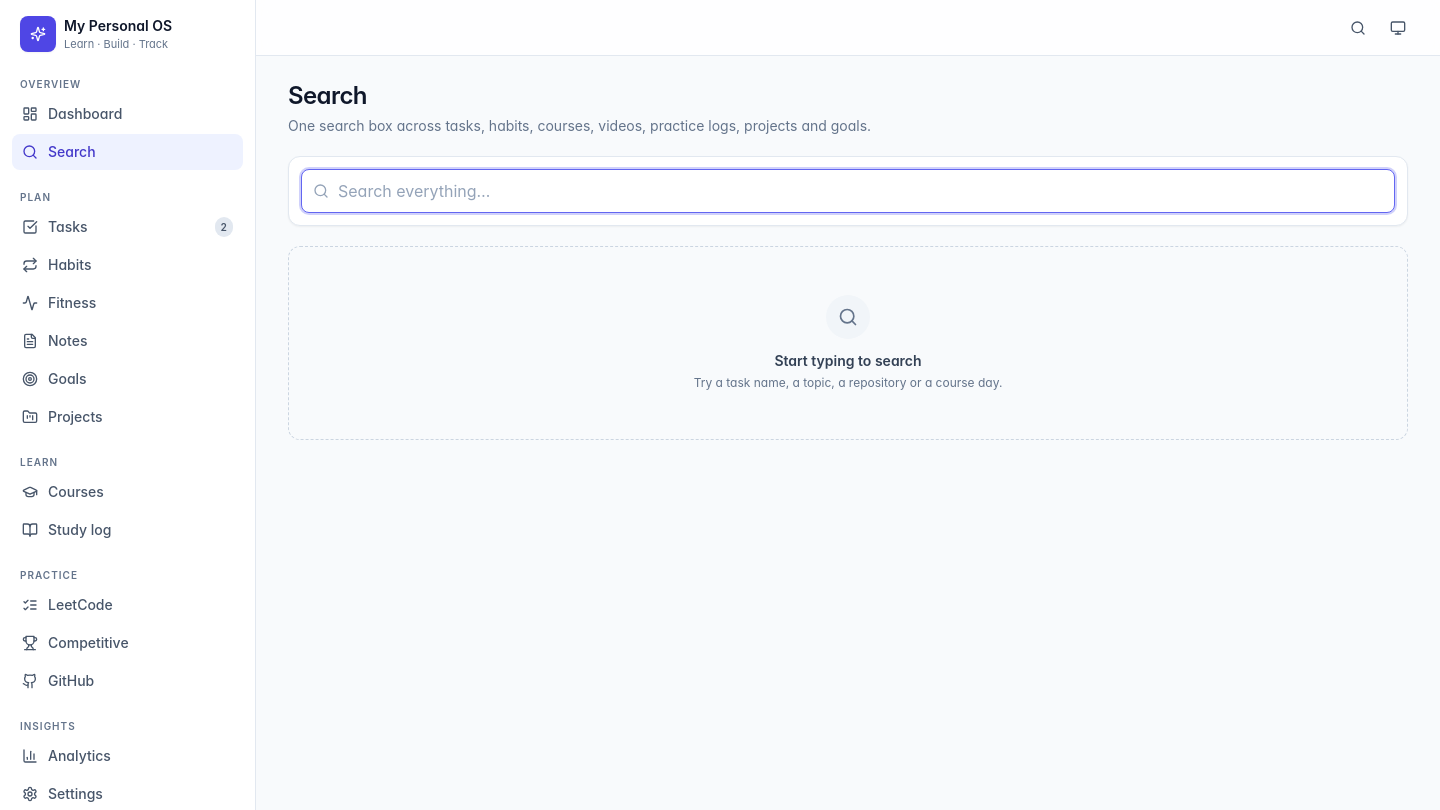
Test: analytics, search and settings › searches across every module
The image size is (1440, 810).
Expected: the heading "Search" is shown, x1=288 y1=81 x2=367 y2=110
In the field labelled "Search everything": (848,191) x1=301 y1=169 x2=1395 y2=213, type "backpropagation"
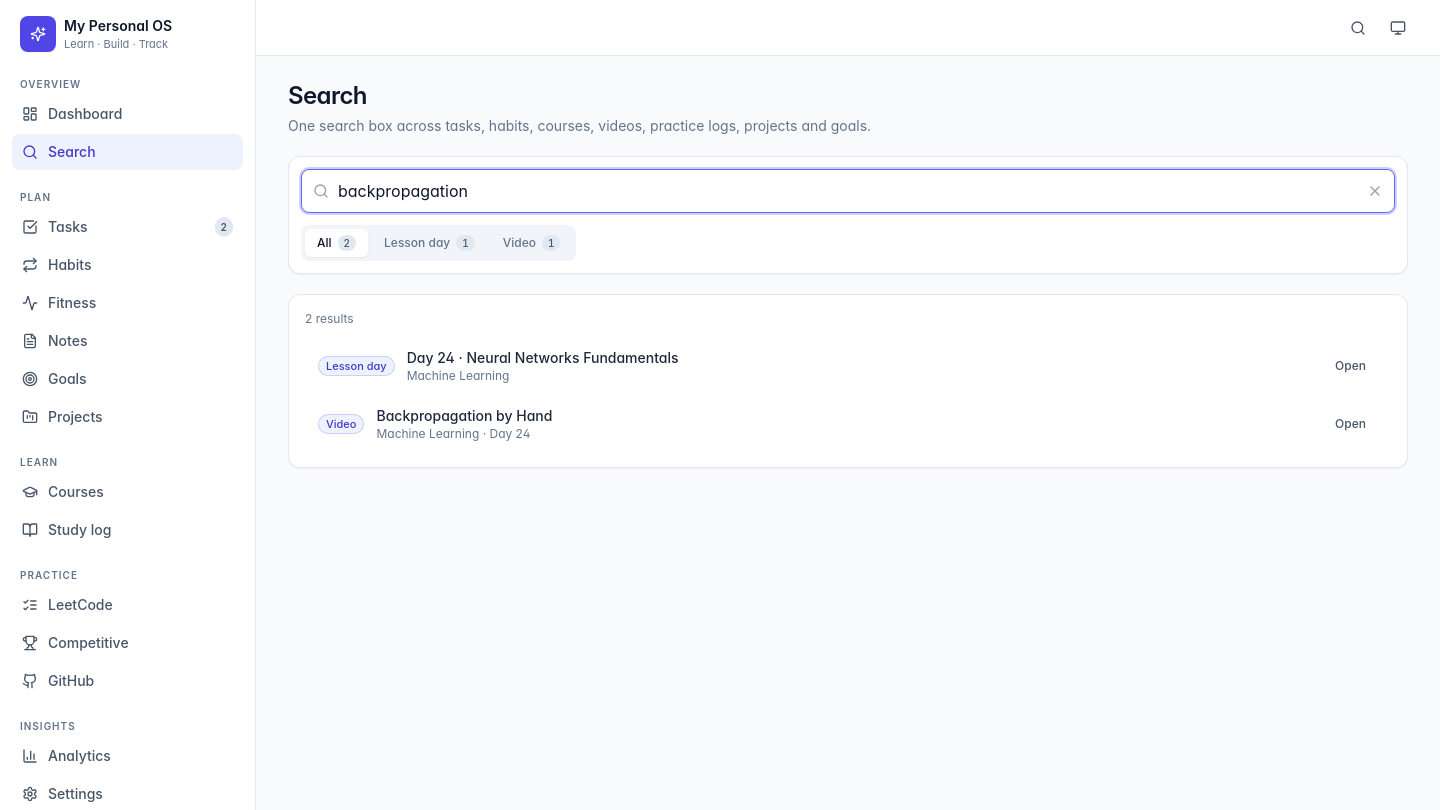
Result: the tab "Video 1" is shown at x1=491 y1=229 x2=572 y2=257
Result: the text "Backpropagation by Hand" is shown at x1=376 y1=407 x2=552 y2=424
